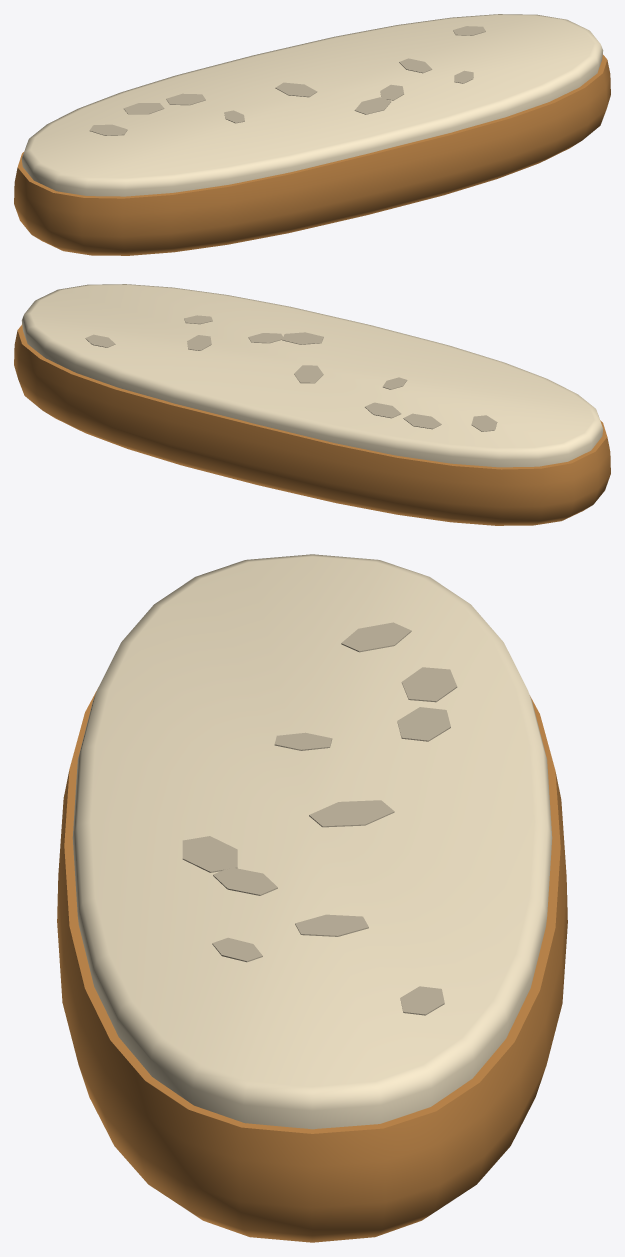
File: Food_Sourdough_Bottom.fbx
The picture shows the model from 3 angles, top to bottom: view 1: azimuth 30°, elevation 25°; view 2: azimuth 150°, elevation 25°; view 3: azimuth 270°, elevation 25°; orthographic projection. The views are drawn at different scales.
Visible parts, largest first — view 1: Crumb, Crust, Pores; view 2: Crumb, Crust, Pores; view 3: Crumb, Crust, Pores.
Part boxes in pixels (x1,y1,x2,y2): Crumb: (21,14,603,196); Crust: (14,54,610,255); Pores: (89,26,485,135); Crumb: (21,284,603,467); Crust: (14,324,610,525); Pores: (85,315,497,431); Crumb: (72,554,552,1129); Crust: (57,687,567,1242); Pores: (182,622,457,1015).
Bounding box in the file's own units: 220 × 30.5 × 85.
